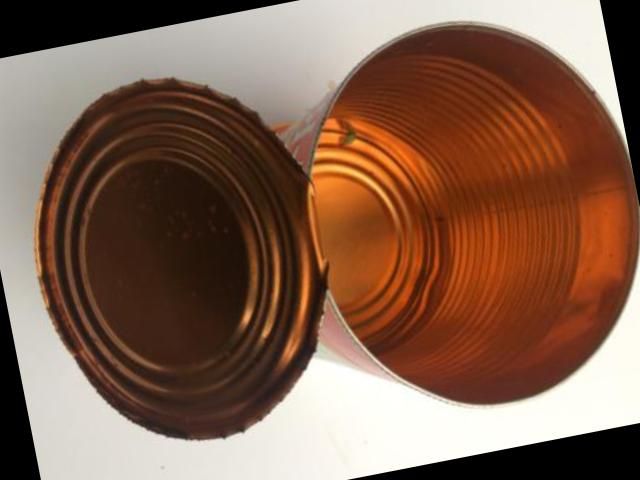metal: (315, 22, 640, 403), (37, 78, 327, 437)
